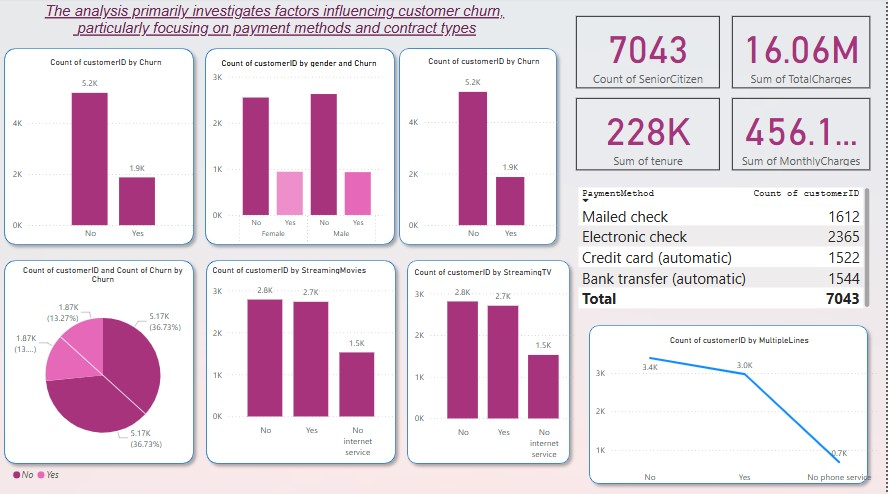

The dashboard page shown, as its layout file describes it:
{"tool":"powerbi","page":{"name":"Page 1","canvas":[1280,720],"ordinal":0},"visuals":[{"type":"shape","box":[568.8,65.2,244.8,301],"z":0},{"type":"shape","box":[0,370.1,290.9,311],"z":1000},{"type":"shape","box":[290.9,370.1,290.9,311],"z":2000},{"type":"shape","box":[580.3,370.1,252,311],"z":3000},{"type":"shape","box":[842.4,463.7,419,246.2],"z":4000},{"type":"shape","box":[289.4,65.2,290.9,301],"z":5000},{"type":"shape","box":[0,65.2,290.9,301],"z":6000},{"type":"columnChart","fields":{"Category":["CustomerChurn11.Churn"],"Y":["CountNonNull(CustomerChurn11.customerID)"]},"box":[15.8,86.4,279.4,272.2],"z":7000},{"type":"pieChart","fields":{"Y":["CountNonNull(CustomerChurn11.customerID)","CountNonNull(CustomerChurn11.Churn)"],"Category":["CustomerChurn11.Churn"]},"box":[15.8,385.9,270.7,321.1],"z":8000},{"type":"clusteredColumnChart","fields":{"Y":["CountNonNull(CustomerChurn11.customerID)"],"Category":["CustomerChurn11.gender","CustomerChurn11.Churn"]},"box":[303.8,87.8,259.2,275],"z":9000},{"type":"card","fields":{"Values":["Sum(CustomerChurn11.TotalCharges)"]},"box":[1056.5,27.5,198.6,104.3],"z":10000},{"type":"card","fields":{"Values":["CountNonNull(CustomerChurn11.SeniorCitizen)"]},"box":[831.9,27.5,207.2,104.3],"z":11000},{"type":"pivotTable","fields":{"Rows":["CustomerChurn11.PaymentMethod"],"Values":["CountNonNull(CustomerChurn11.customerID)"]},"box":[831.3,268.7,429.9,183.6],"z":12000},{"type":"card","fields":{"Values":["Sum(CustomerChurn11.tenure)"]},"box":[831.9,144.9,207.2,104.3],"z":13000},{"type":"card","fields":{"Values":["Sum(CustomerChurn11.MonthlyCharges)"]},"box":[1056.5,144.9,198.6,104.3],"z":14000},{"type":"lineChart","fields":{"Y":["CountNonNull(CustomerChurn11.customerID)"],"Category":["CustomerChurn11.MultipleLines"]},"box":[855.1,487,424.6,223.2],"z":15000},{"type":"columnChart","fields":{"Category":["CustomerChurn11.StreamingTV"],"Y":["CountNonNull(CustomerChurn11.customerID)"]},"box":[594.7,388.8,243.4,285.1],"z":16000},{"type":"columnChart","fields":{"Category":["CustomerChurn11.StreamingMovies"],"Y":["CountNonNull(CustomerChurn11.customerID)"]},"box":[303.8,385.9,272.2,285.1],"z":17000},{"type":"columnChart","fields":{"Category":["CustomerChurn11.Churn"],"Y":["CountNonNull(CustomerChurn11.customerID)"]},"box":[586.1,85,227.5,273.6],"z":18000},{"type":"textbox","box":[0,2.9,796.3,61.9],"z":19000}]}

Visuals, with their boxes in screenshot pixels (x1, y1, x2, y2), scaled from the page's 1280x720 canvas onto the 888x494 screenshot:
shape: [395,45,564,251]
shape: [0,254,202,467]
shape: [202,254,404,467]
shape: [403,254,577,467]
shape: [584,318,875,487]
shape: [201,45,403,251]
shape: [0,45,202,251]
columnChart - CustomerChurn11.Churn x CountNonNull(CustomerChurn11.customerID): [11,59,205,246]
pieChart - CountNonNull(CustomerChurn11.customerID) x CountNonNull(CustomerChurn11.Churn): [11,265,199,485]
clusteredColumnChart - CountNonNull(CustomerChurn11.customerID) x CustomerChurn11.gender: [211,60,391,249]
card - Sum(CustomerChurn11.TotalCharges): [733,19,871,90]
card - CountNonNull(CustomerChurn11.SeniorCitizen): [577,19,721,90]
pivotTable - CustomerChurn11.PaymentMethod x CountNonNull(CustomerChurn11.customerID): [577,184,875,310]
card - Sum(CustomerChurn11.tenure): [577,99,721,171]
card - Sum(CustomerChurn11.MonthlyCharges): [733,99,871,171]
lineChart - CountNonNull(CustomerChurn11.customerID) x CustomerChurn11.MultipleLines: [593,334,887,487]
columnChart - CustomerChurn11.StreamingTV x CountNonNull(CustomerChurn11.customerID): [413,267,581,462]
columnChart - CustomerChurn11.StreamingMovies x CountNonNull(CustomerChurn11.customerID): [211,265,400,460]
columnChart - CustomerChurn11.Churn x CountNonNull(CustomerChurn11.customerID): [407,58,564,246]
textbox: [0,2,552,44]
